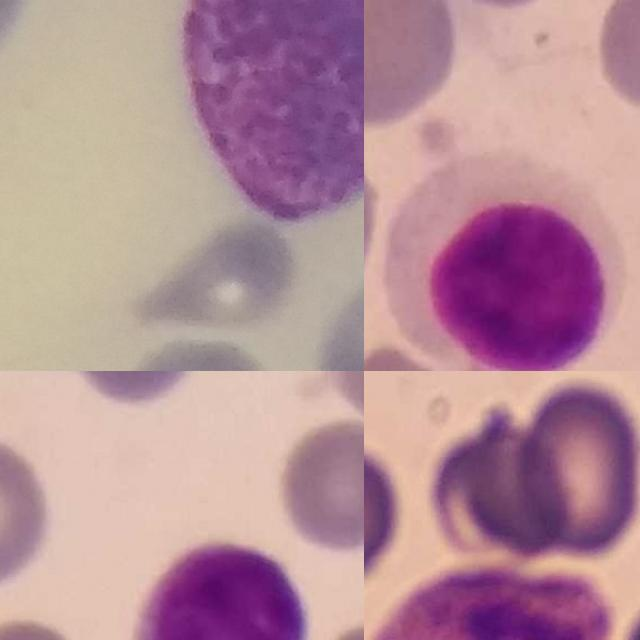Basophil: (181, 0, 364, 224)
Lymphocyte: (385, 146, 628, 371), (124, 545, 307, 640)
Neutrophil: (364, 570, 618, 640)
